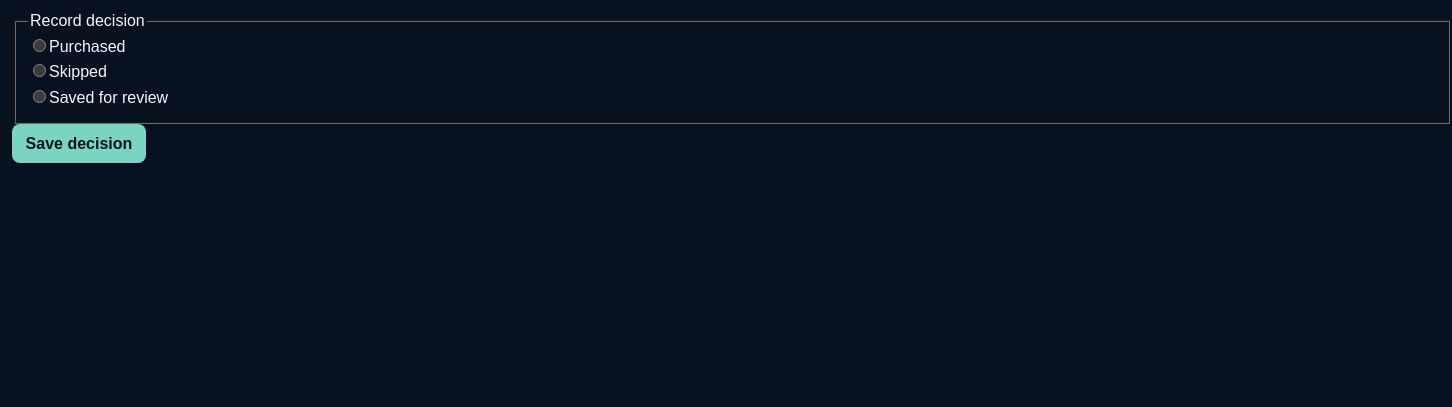
Test case: PurchaseDecision › requires a positive actual fill and timestamp before saving a one-to-three contract purchase (mutation: accept zero fill or missing timestamp)
Click the radio button labelled "Purchased". click: click(40, 45)
box: x1=33 y1=39 x2=46 y2=52
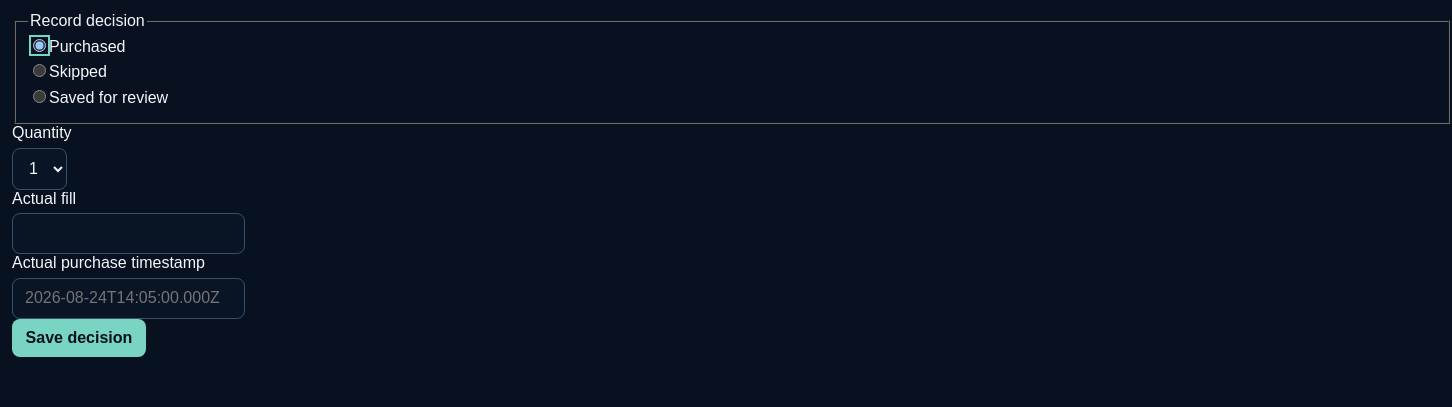
Type "0" into the number field labelled "Actual fill". click: (128, 234)
box: x1=12 y1=213 x2=245 y2=254
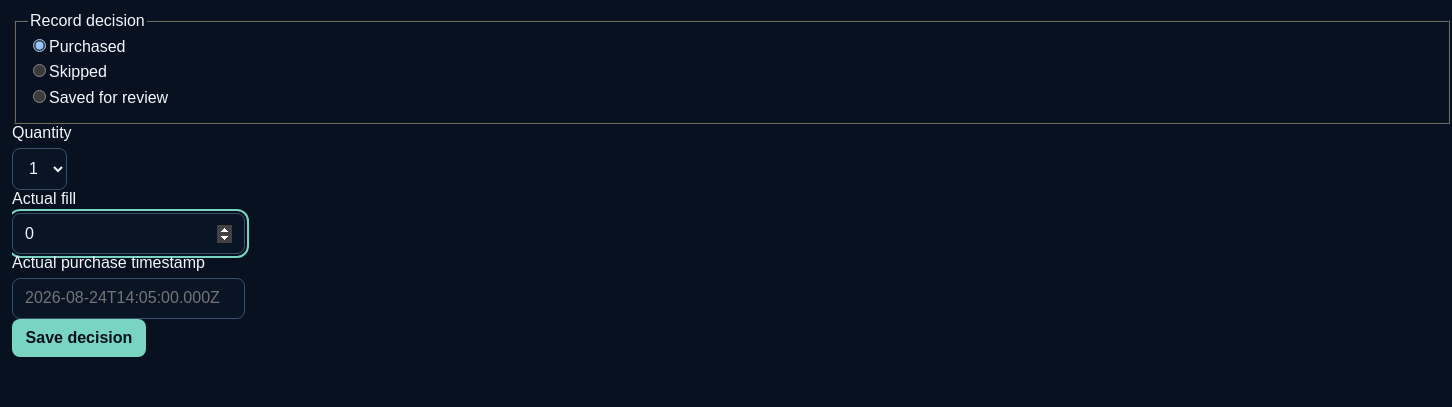
Click the button "Save decision". click: click(79, 338)
box: x1=12 y1=318 x2=146 y2=357
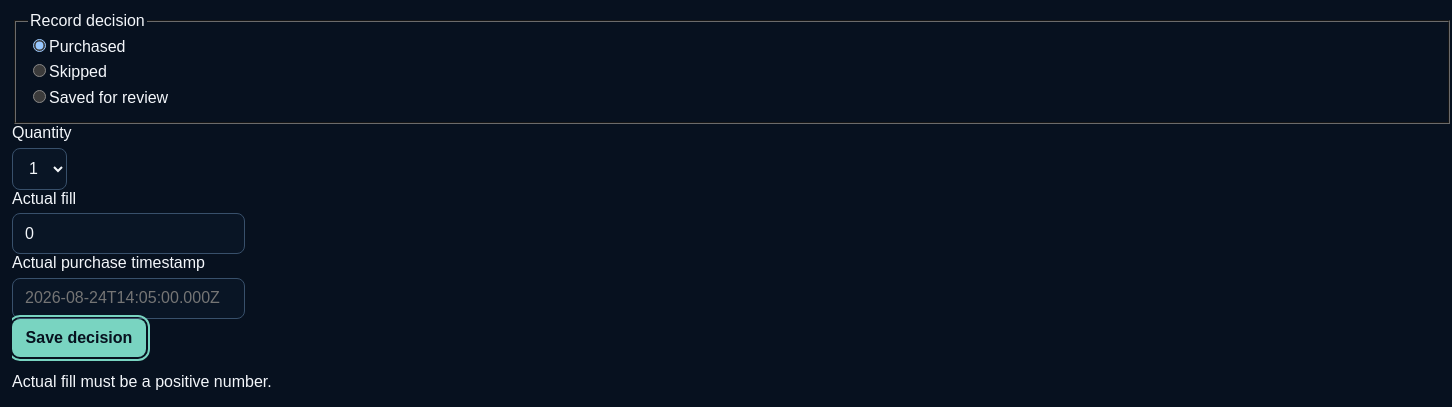
Now the message reads "Actual fill must be a positive number.", box x1=12 y1=373 x2=272 y2=390
Replace the text in the number field labelled "Actual fill" with "1.32". click: (128, 234)
box: x1=12 y1=213 x2=245 y2=254
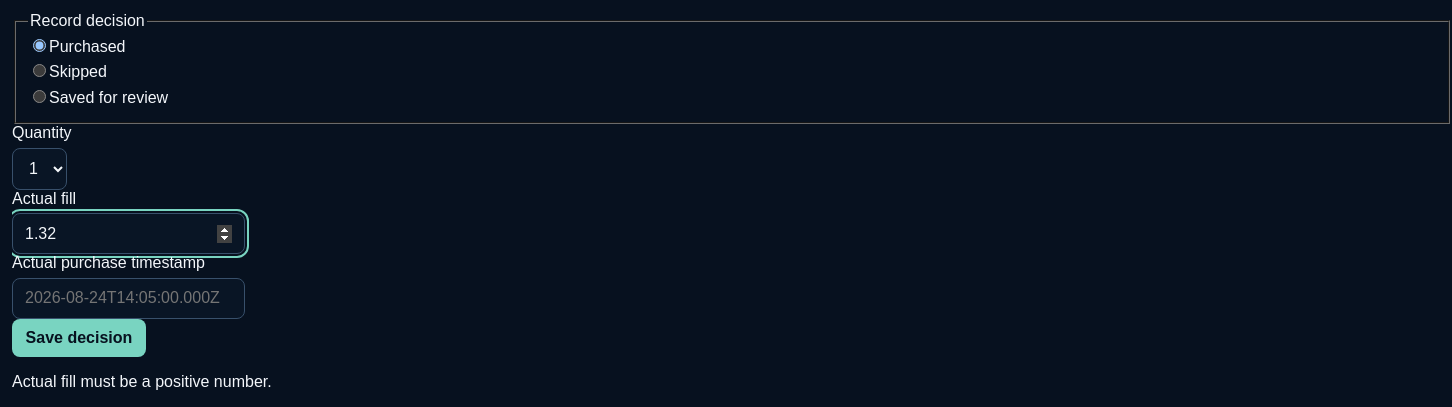
Click the button "Save decision". click: click(79, 338)
box: x1=12 y1=318 x2=146 y2=357
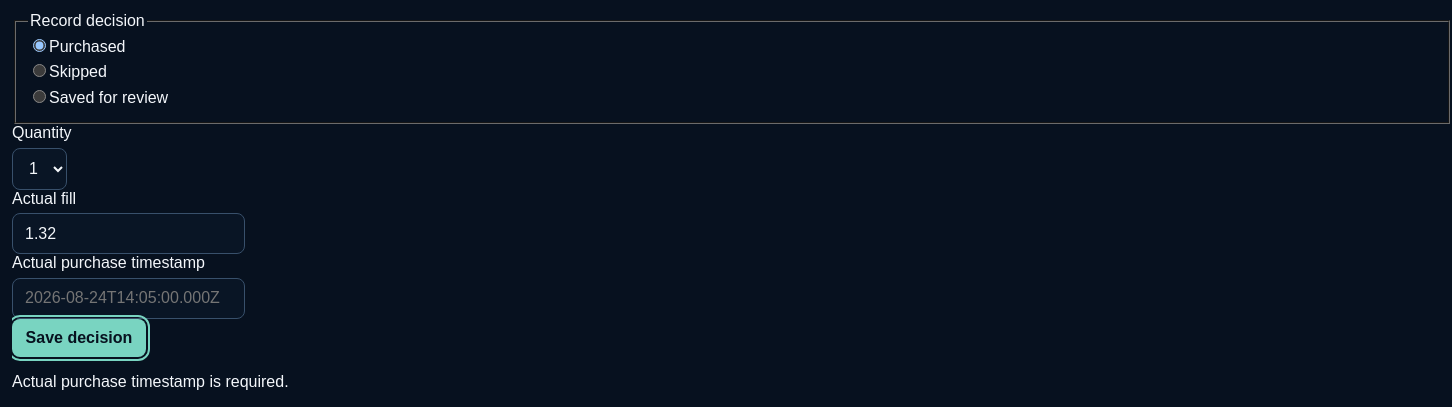
Now the message reads "Actual purchase timestamp is required.", box x1=12 y1=373 x2=289 y2=390
